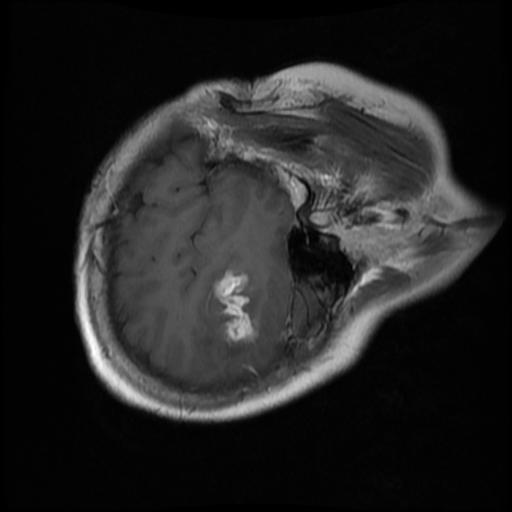glioma: (212, 268, 257, 347)
